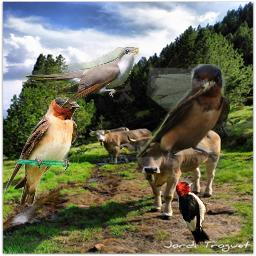Cuckoo: (22, 47, 139, 107)
Swallow: (136, 64, 230, 172), (4, 97, 81, 206)
Woodpecker: (175, 181, 214, 246)
